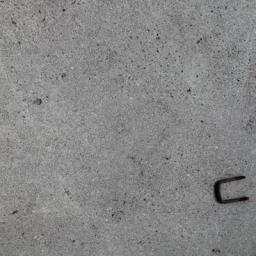FOD: (212, 174, 253, 208)
